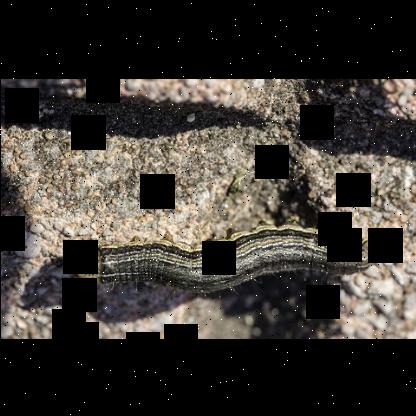oruga: (66, 230, 376, 292)
